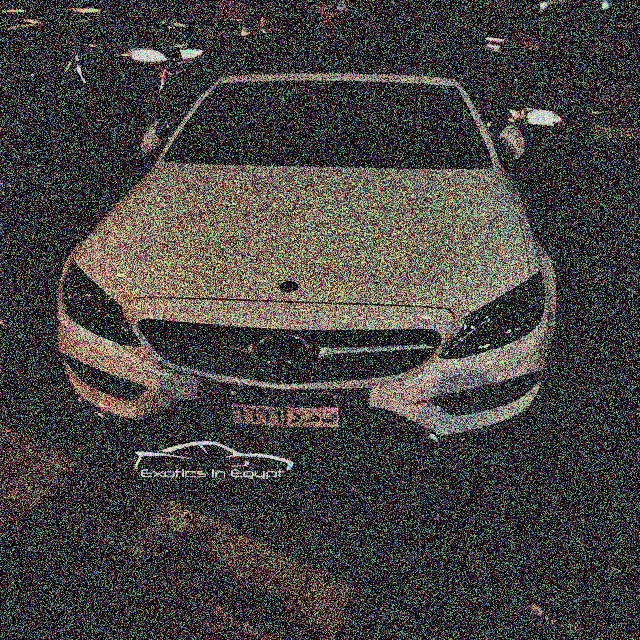License Plate: (227, 387, 342, 431)
